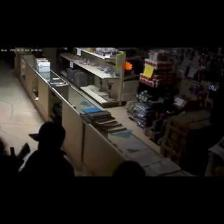person: (20, 122, 74, 182), (113, 161, 145, 177)
